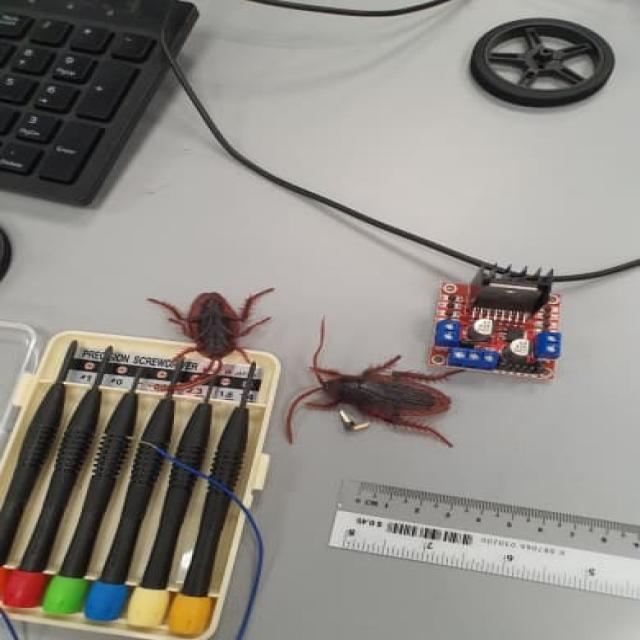Cockroach: (277, 331, 471, 453), (146, 268, 277, 395)
